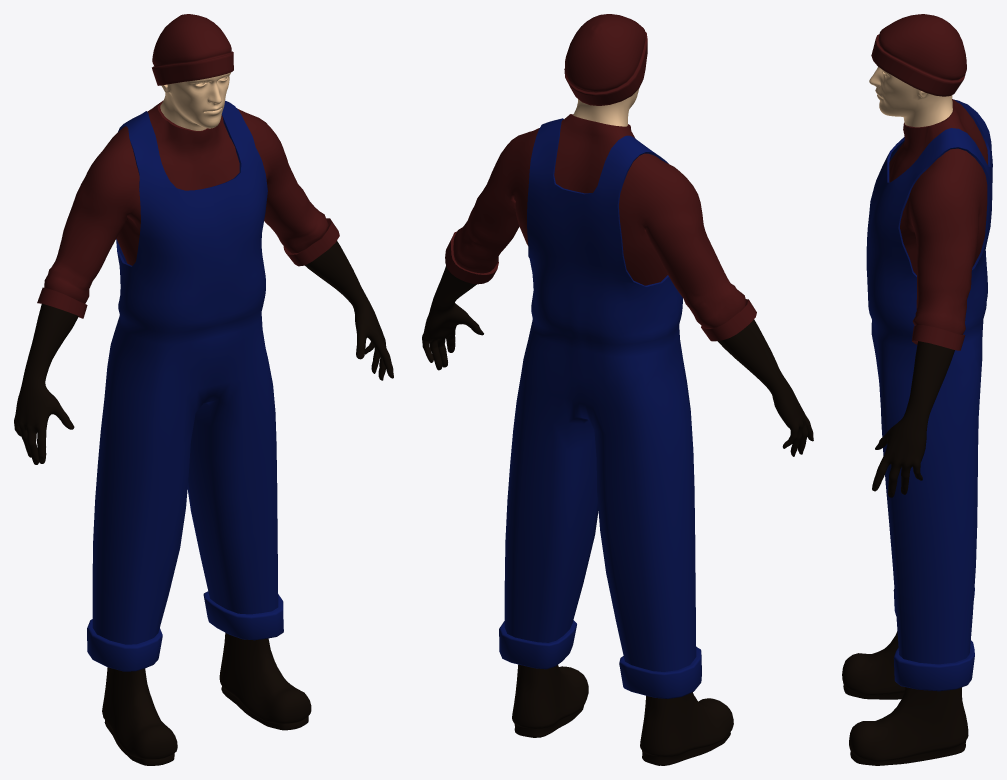
3 views of the same model, side by side, from view 1: azimuth 30°, elevation 25°; view 2: azimuth 150°, elevation 25°; view 3: azimuth 270°, elevation 25° (orthographic). The views are drawn at different scales.
Parts seen in each view (by area): view 1: Overall, Shirt, Hands, BootLeft017, BootRight18, Beanie, Face; view 2: Overall, Shirt, Hands, Beanie, BootRight18, BootLeft017, Face; view 3: Overall, Shirt, BootLeft017, Beanie, Hands, Face, BootRight18.
Part boxes in pixels (<box>): Overall: <box>87,100,283,671</box>; Shirt: <box>37,100,339,318</box>; Hands: <box>14,241,393,464</box>; BootLeft017: <box>219,633,311,730</box>; BootRight18: <box>102,667,177,765</box>; Beanie: <box>152,14,233,85</box>; Face: <box>160,72,230,130</box>; Overall: <box>499,118,701,698</box>; Shirt: <box>445,114,756,341</box>; Hands: <box>422,265,813,456</box>; Beanie: <box>564,14,647,105</box>; BootRight18: <box>640,692,733,765</box>; BootLeft017: <box>512,664,588,737</box>; Face: <box>573,89,638,126</box>; Overall: <box>866,99,992,691</box>; Shirt: <box>889,99,987,350</box>; BootLeft017: <box>849,687,968,765</box>; Beanie: <box>871,14,966,96</box>; Hands: <box>872,341,954,497</box>; Face: <box>869,66,952,127</box>; BootRight18: <box>842,631,905,699</box>.
Size of the model in its own units: 403 by 742 by 143.
